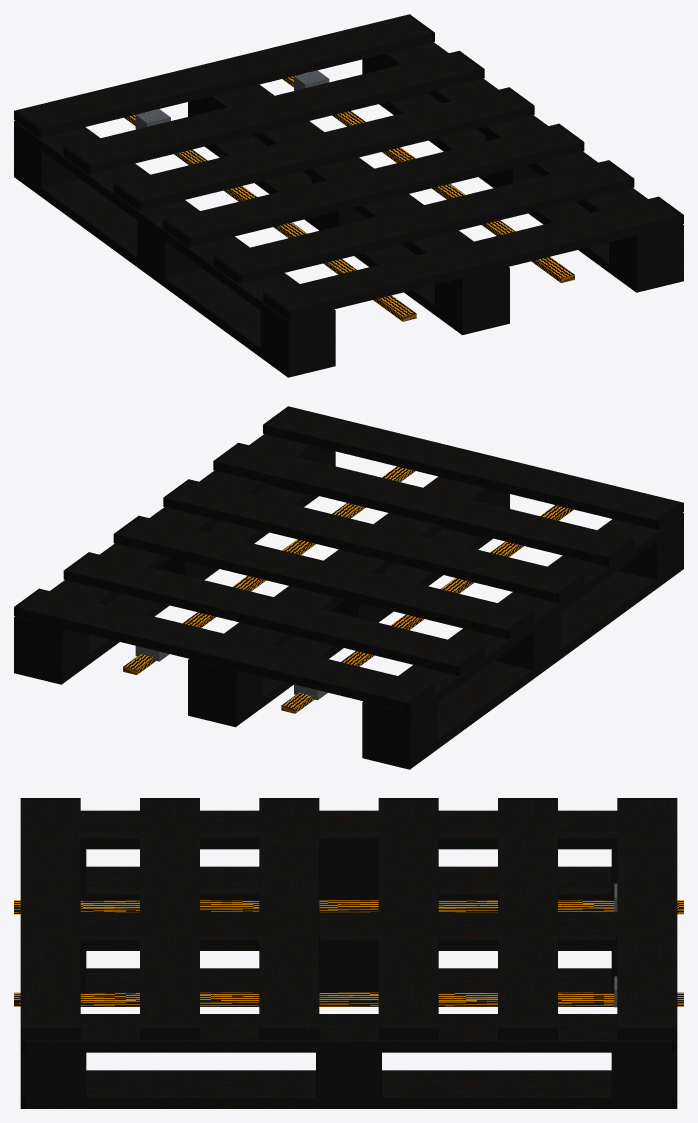
File: cargo_pallet.glb
The picture shows the model from 3 angles, top to bottom: view 1: azimuth 30°, elevation 25°; view 2: azimuth 150°, elevation 25°; view 3: azimuth 270°, elevation 25°; orthographic projection. The views are drawn at different scales.
Parts seen in each view (by area): view 1: cargo_pallet; view 2: cargo_pallet; view 3: cargo_pallet.
Part boxes in pixels (box(x1,y1,x2,y2)): cargo_pallet: box(14, 14, 683, 377); cargo_pallet: box(14, 406, 683, 769); cargo_pallet: box(14, 798, 683, 1108).
Size of the model in its own units: 1 by 0.16 by 1.22.
1 material, 1 textured.
